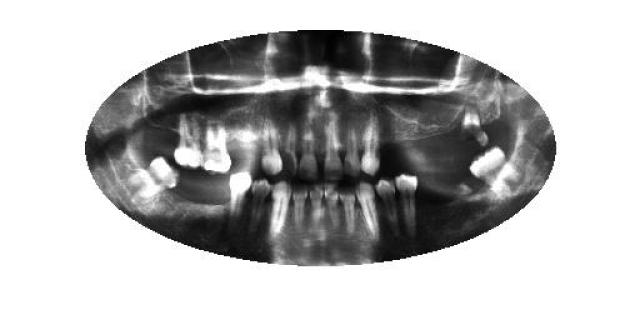Cavity: (461, 101, 490, 148), (281, 119, 300, 179)
Restorations: (468, 145, 528, 195), (129, 156, 180, 205)
